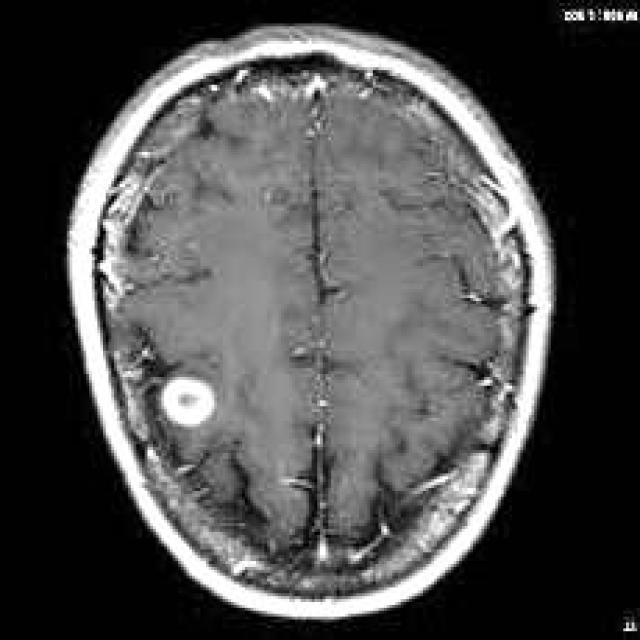Tumor-Cell: (147, 355, 241, 443)
